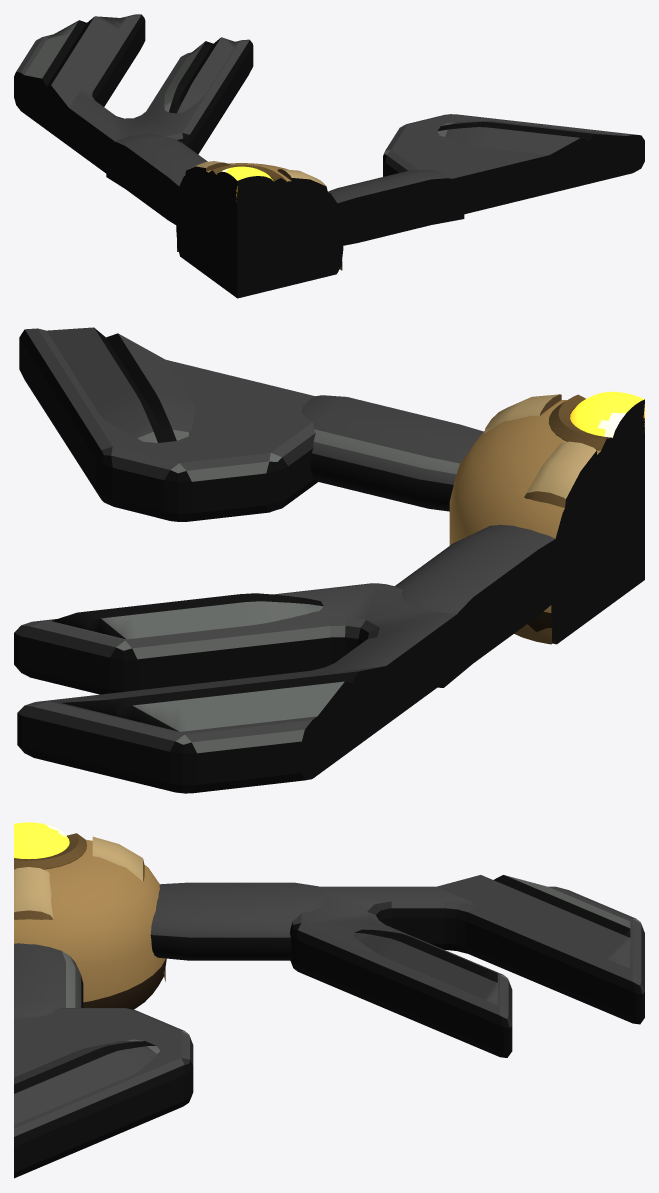
Rendered from spin_claw_87.glb.
3 renders of one model, top to bottom at view 1: azimuth 30°, elevation 25°; view 2: azimuth 150°, elevation 25°; view 3: azimuth 270°, elevation 25°, orthographic. The views are drawn at different scales.
Parts seen in each view (by area): view 1: spin_claw_87_hub_dome, spin_claw_87_arm1_plate, spin_claw_87_arm0_plate, spin_claw_87_arm1_rod, spin_claw_87_arm0_rod, spin_claw_87_arm0_ridge0, spin_claw_87_arm1_ridge0, spin_claw_87_arm0_ridge1, spin_claw_87_hub_lens, spin_claw_87_hub_bezel, spin_claw_87_hub_rib1; view 2: spin_claw_87_arm0_plate, spin_claw_87_arm1_plate, spin_claw_87_hub_dome, spin_claw_87_arm0_rod, spin_claw_87_arm1_rod, spin_claw_87_arm0_ridge0, spin_claw_87_arm1_ridge0, spin_claw_87_arm0_ridge1, spin_claw_87_hub_rib0, spin_claw_87_hub_lens, spin_claw_87_hub_bezel, spin_claw_87_hub_rib1; view 3: spin_claw_87_arm0_plate, spin_claw_87_arm1_plate, spin_claw_87_hub_dome, spin_claw_87_arm0_rod, spin_claw_87_arm0_ridge0, spin_claw_87_arm1_ridge0, spin_claw_87_arm1_rod, spin_claw_87_arm0_ridge1, spin_claw_87_hub_rib1, spin_claw_87_hub_lens, spin_claw_87_hub_rib0, spin_claw_87_hub_bezel.
Part boxes in pixels (x1,y1,x2,y2): spin_claw_87_hub_dome: (176,163,343,298); spin_claw_87_arm1_plate: (383,114,644,221); spin_claw_87_arm0_plate: (14,14,253,185); spin_claw_87_arm1_rod: (310,169,464,251); spin_claw_87_arm0_rod: (106,133,207,235); spin_claw_87_arm0_ridge0: (20,16,125,117); spin_claw_87_arm1_ridge0: (437,121,626,159); spin_claw_87_arm0_ridge1: (164,37,237,113); spin_claw_87_hub_lens: (216,166,274,201); spin_claw_87_hub_bezel: (209,164,286,200); spin_claw_87_hub_rib1: (277,169,342,270); spin_claw_87_arm0_plate: (14,583,476,793); spin_claw_87_arm1_plate: (19,328,317,521); spin_claw_87_hub_dome: (449,400,644,644); spin_claw_87_arm0_rod: (395,524,580,687); spin_claw_87_arm1_rod: (301,395,483,511); spin_claw_87_arm0_ridge0: (61,665,392,731); spin_claw_87_arm1_ridge0: (47,327,195,442); spin_claw_87_arm0_ridge1: (52,593,323,639); spin_claw_87_hub_rib0: (514,441,596,644); spin_claw_87_hub_lens: (570,391,644,446); spin_claw_87_hub_bezel: (548,394,644,458); spin_claw_87_hub_rib1: (484,394,561,433); spin_claw_87_arm0_plate: (289,886,644,1057); spin_claw_87_arm1_plate: (14,1008,193,1178); spin_claw_87_hub_dome: (14,839,166,1009); spin_claw_87_arm0_rod: (150,882,324,960); spin_claw_87_arm0_ridge0: (436,875,630,968); spin_claw_87_arm1_ridge0: (14,1039,159,1124); spin_claw_87_arm1_rod: (14,943,83,1018); spin_claw_87_arm0_ridge1: (353,929,497,1004); spin_claw_87_hub_rib1: (14,867,53,919); spin_claw_87_hub_lens: (14,822,69,859); spin_claw_87_hub_rib0: (92,836,165,981); spin_claw_87_hub_bezel: (14,833,86,869).
Size of the model in its own units: 19.97 by 5.6 by 21.38.
